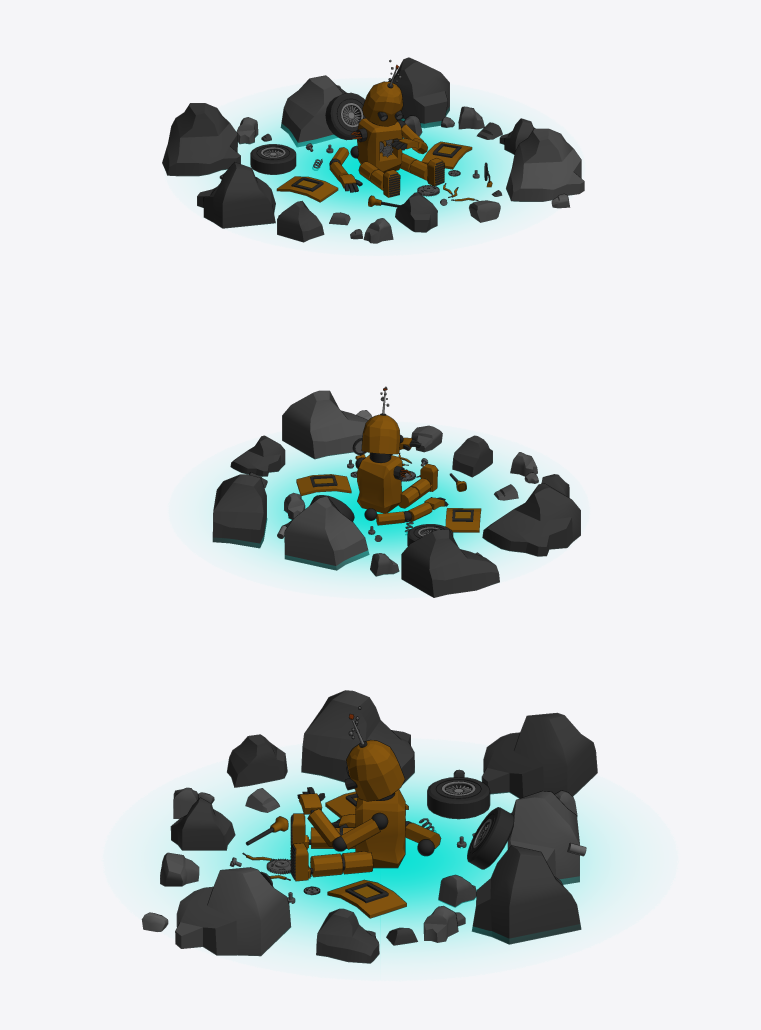
File: broken.glb
3 views of the same model, one above another, from view 1: azimuth 30°, elevation 25°; view 2: azimuth 150°, elevation 25°; view 3: azimuth 270°, elevation 25° (orthographic). The views are drawn at different scales.
Parts seen in each view (by area): view 1: pSphere19, Broken:Broken:pPlane1, Broken:Broken:pCube22, Broken:Broken:pCube25, Broken:Broken:pCube45, polySurface4, Broken:Broken:pCube44, Broken:Broken:pCube2, polySurface2, Broken:Broken:pCube46, Broken:polySurface8, Broken:polySurface2 (+6 smaller); view 2: pSphere19, Broken:Broken:pPlane1, Broken:Broken:pCube45, Broken:Broken:pCube25, polySurface4, Broken:Broken:pCube22, Broken:Broken:pCube44, Broken:Broken:pCube2, Broken:Broken:pCube28, Broken:polySurface8, Broken:Broken:pCube16, Broken:Broken:pCube39 (+2 smaller); view 3: pSphere19, Broken:Broken:pPlane1, Broken:Broken:pCube22, Broken:Broken:pCube44, Broken:Broken:pCube25, Broken:Broken:pCube45, polySurface4, Broken:Broken:pCube2, Broken:polySurface8, Broken:Broken:pCube28, Broken:Broken:pCube16, Broken:Broken:pCube46 (+12 smaller).
Boxes of the visible parts, x1,y1,x2,y2 form: pSphere19: (162, 57, 584, 243); Broken:Broken:pPlane1: (220, 109, 513, 231); Broken:Broken:pCube22: (506, 129, 584, 201); Broken:Broken:pCube25: (162, 103, 240, 175); Broken:Broken:pCube45: (197, 162, 275, 228); polySurface4: (281, 76, 345, 146); Broken:Broken:pCube44: (389, 58, 449, 127); Broken:Broken:pCube2: (357, 118, 402, 172); polySurface2: (326, 93, 365, 139); Broken:Broken:pCube46: (277, 201, 323, 241); Broken:polySurface8: (362, 82, 402, 126); Broken:polySurface2: (250, 144, 295, 174); pSphere19: (212, 386, 580, 597); Broken:Broken:pPlane1: (243, 447, 529, 575); Broken:Broken:pCube45: (482, 483, 580, 556); Broken:Broken:pCube25: (401, 529, 499, 597); polySurface4: (284, 496, 368, 569); Broken:Broken:pCube22: (282, 391, 367, 458); Broken:Broken:pCube44: (213, 474, 266, 547); Broken:Broken:pCube2: (357, 455, 401, 513); Broken:Broken:pCube28: (231, 436, 284, 476); Broken:polySurface8: (362, 415, 399, 453); Broken:Broken:pCube16: (452, 436, 492, 476); Broken:Broken:pCube39: (296, 474, 351, 495); pSphere19: (141, 690, 597, 963); Broken:Broken:pPlane1: (180, 771, 601, 954); Broken:Broken:pCube22: (175, 867, 290, 955); Broken:Broken:pCube44: (472, 846, 580, 943); Broken:Broken:pCube25: (482, 713, 597, 798); Broken:Broken:pCube45: (301, 691, 414, 782); polySurface4: (508, 791, 579, 883); Broken:Broken:pCube2: (355, 789, 405, 867); Broken:polySurface8: (346, 740, 404, 800); Broken:Broken:pCube28: (316, 909, 378, 963); Broken:Broken:pCube16: (171, 798, 234, 850); Broken:Broken:pCube46: (227, 735, 287, 787).
Size of the model in its own units: 28.62 by 6.99 by 28.62.
16 materials, 1 textured.
